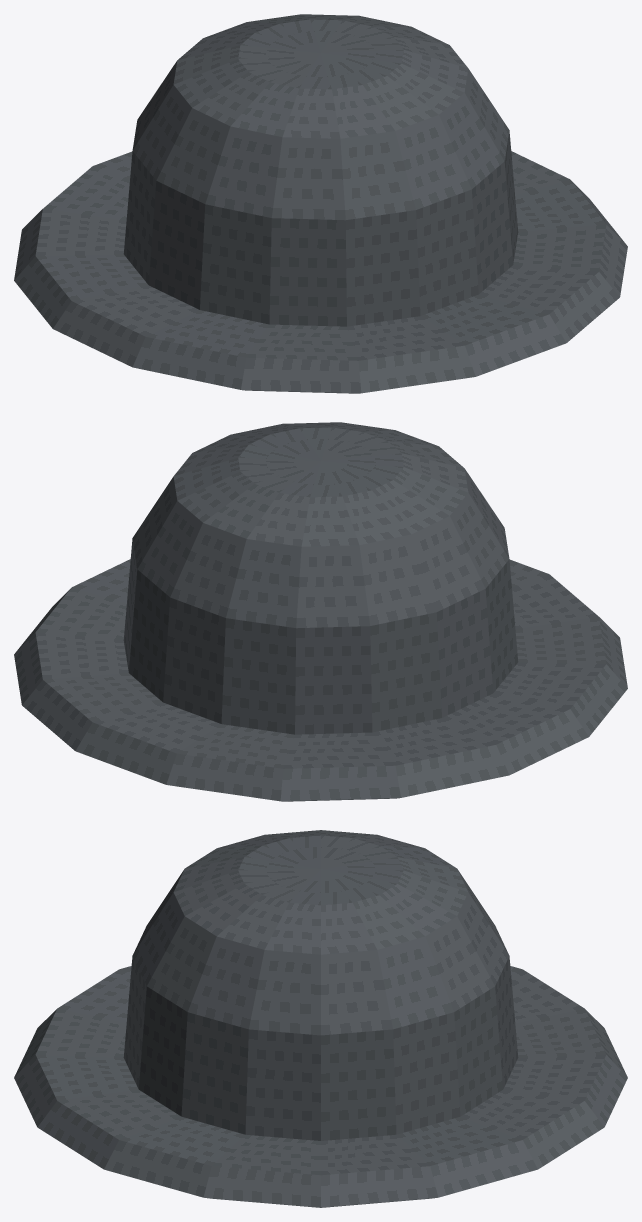
The model's file is bowhat.glb.
The picture shows the model from 3 angles, top to bottom: view 1: azimuth 30°, elevation 25°; view 2: azimuth 150°, elevation 25°; view 3: azimuth 270°, elevation 25°; orthographic projection.
Visible parts, largest first — view 1: block_shaped hat crown and brim; view 2: block_shaped hat crown and brim; view 3: block_shaped hat crown and brim.
Boxes of the visible parts, left/top/right/bottom form: block_shaped hat crown and brim: left=14, top=14, right=627, bottom=393; block_shaped hat crown and brim: left=14, top=422, right=627, bottom=801; block_shaped hat crown and brim: left=14, top=830, right=627, bottom=1207.
Size of the model in its own units: 0.2715 by 0.1063 by 0.2715.
1 material, 1 textured.
